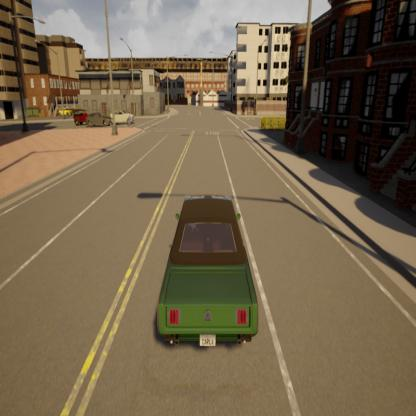Cars: (149, 179, 269, 359), (109, 101, 139, 125), (86, 110, 113, 128), (70, 104, 92, 122), (57, 105, 73, 115)
